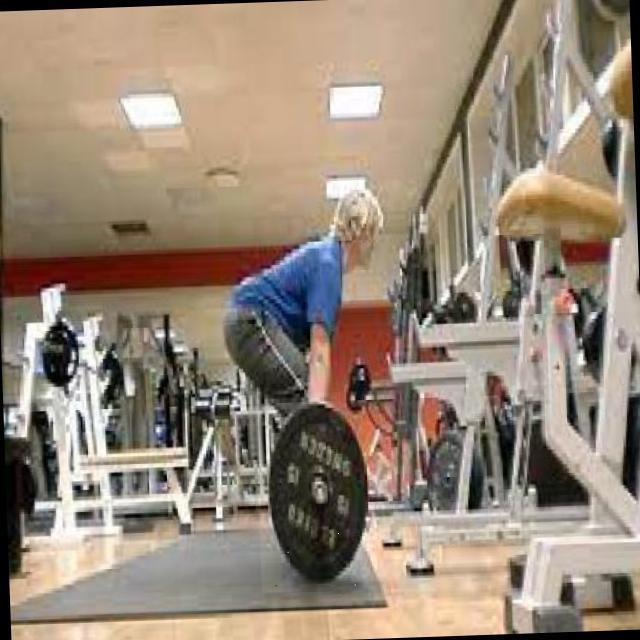barbell: (256, 391, 379, 593)
